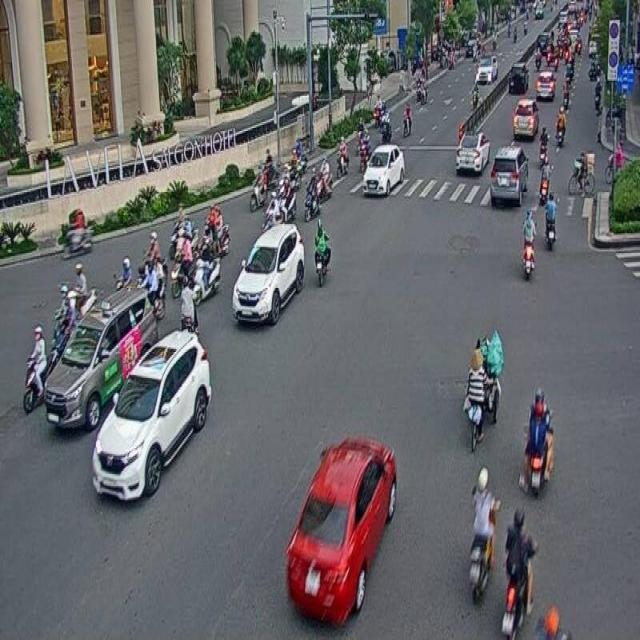bicycle: (568, 149, 596, 198)
car: (286, 436, 396, 622), (93, 329, 211, 498), (44, 290, 156, 428), (232, 221, 305, 325), (489, 145, 529, 207), (363, 144, 405, 197), (455, 133, 491, 172)
motorcycle: (467, 465, 500, 605), (519, 387, 554, 494), (192, 240, 221, 306), (314, 216, 332, 288), (521, 206, 536, 280), (543, 190, 558, 253)
